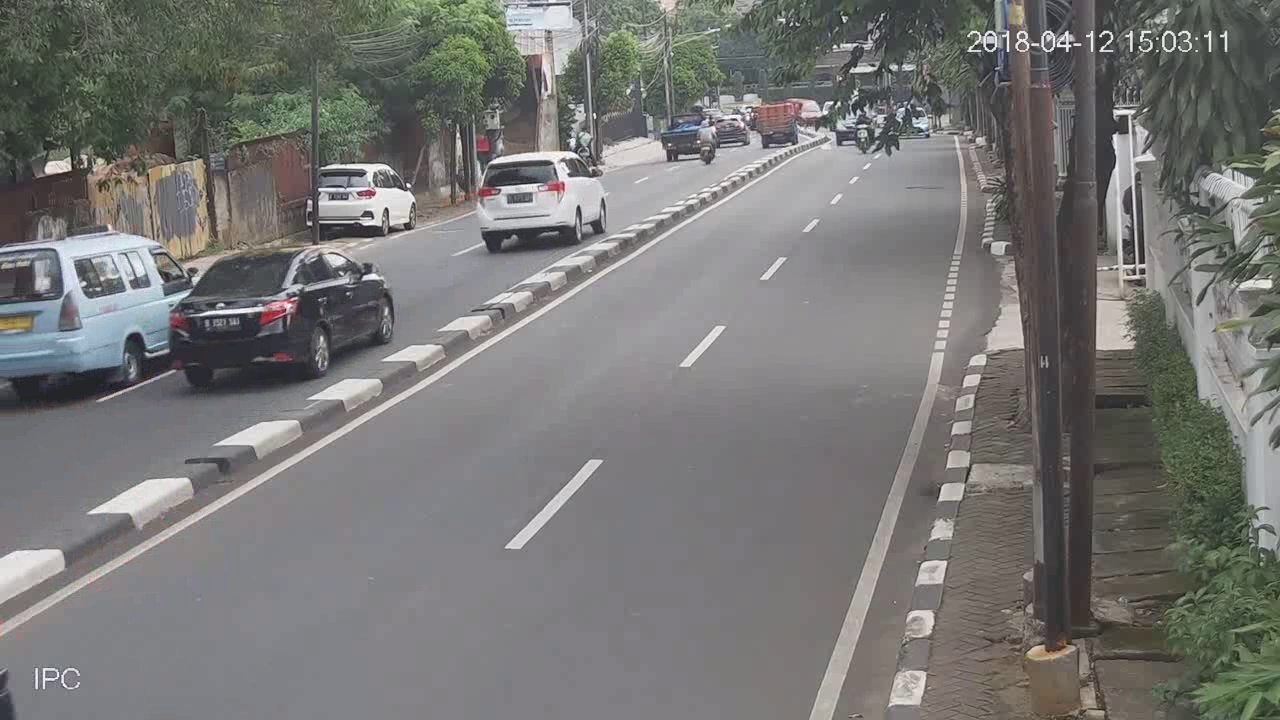car: (166, 246, 397, 383), (475, 150, 611, 251), (305, 162, 418, 239)
